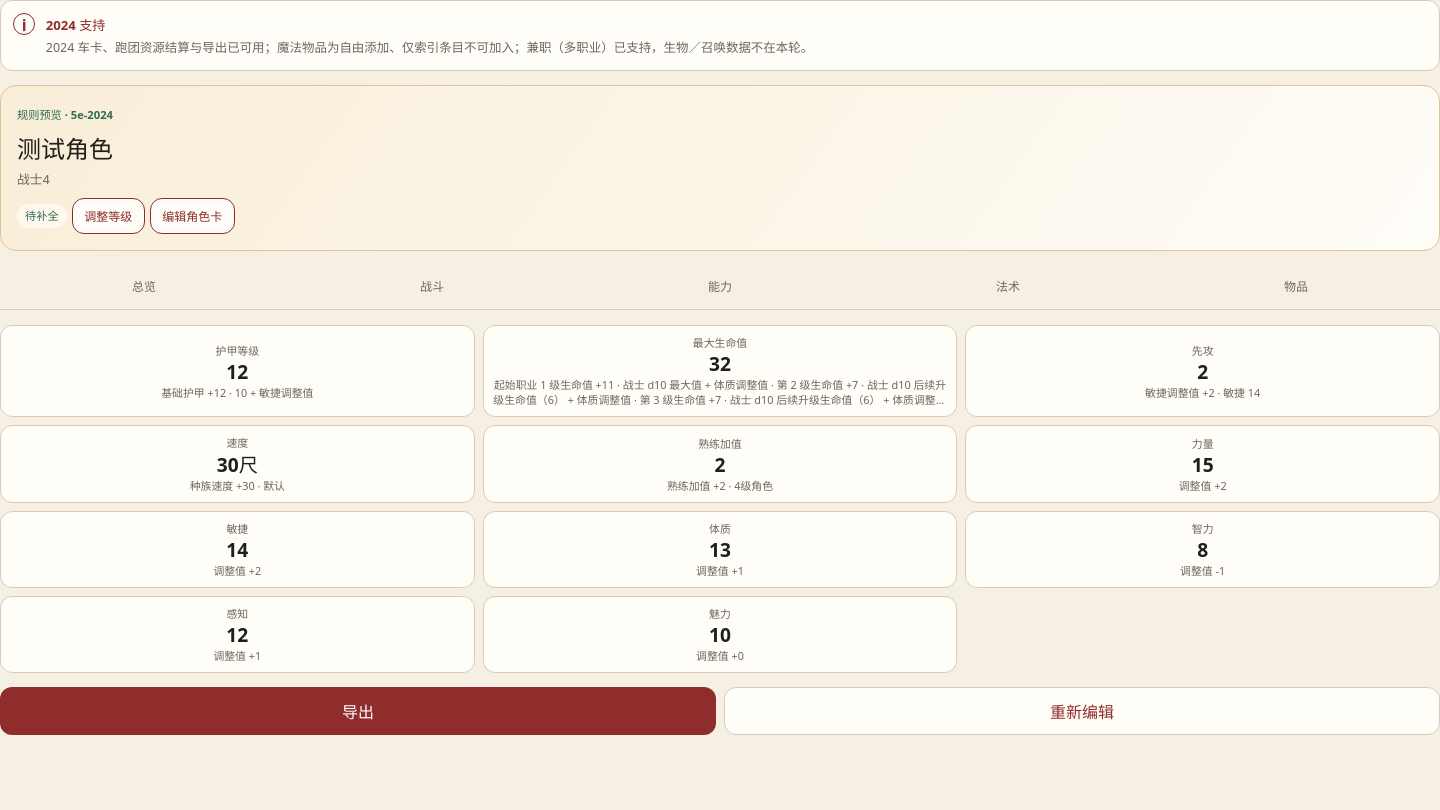
CharacterSheetStep 手动专长 › 仅在编辑模式的能力页提供添加专长入口
The image size is (1440, 810).
Click the tab "能力" at point(720, 287), box [576,265,864,309]
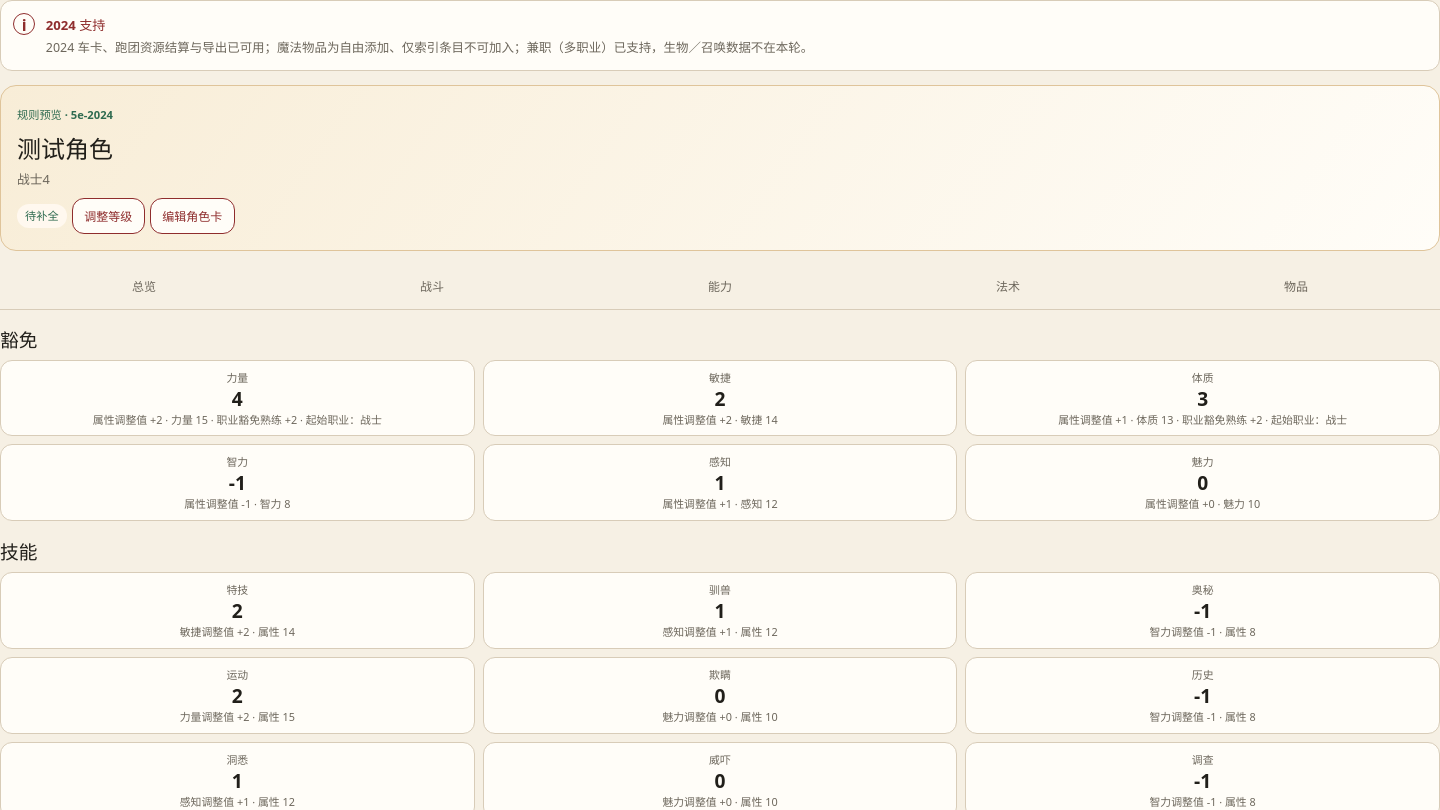
Click the button "编辑角色卡" at point(192, 216), box [150,198,235,234]
(page scrolled)
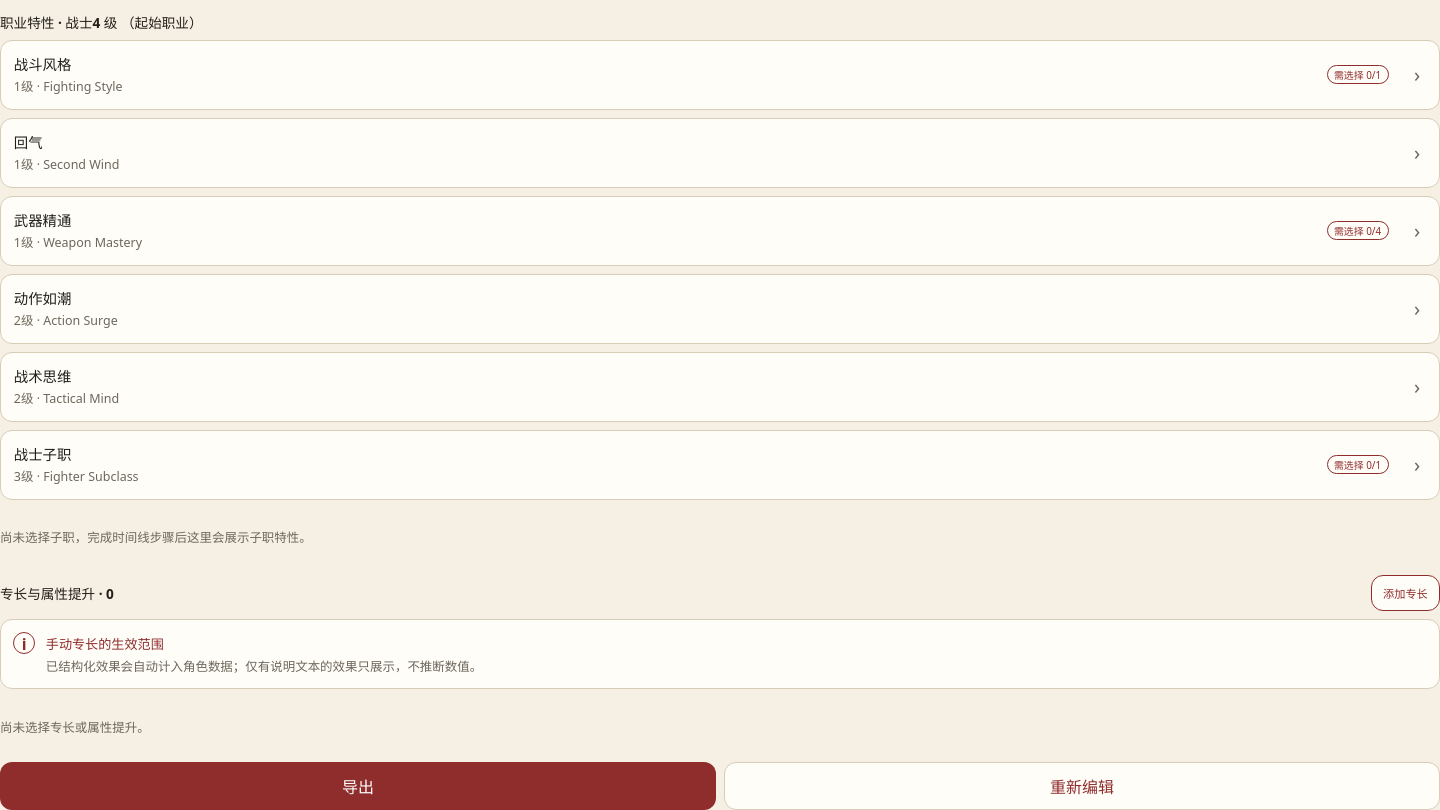
Expected: the button "添加专长" is shown
Click the button "添加专长" at point(1405, 592), box [1371,574,1439,610]
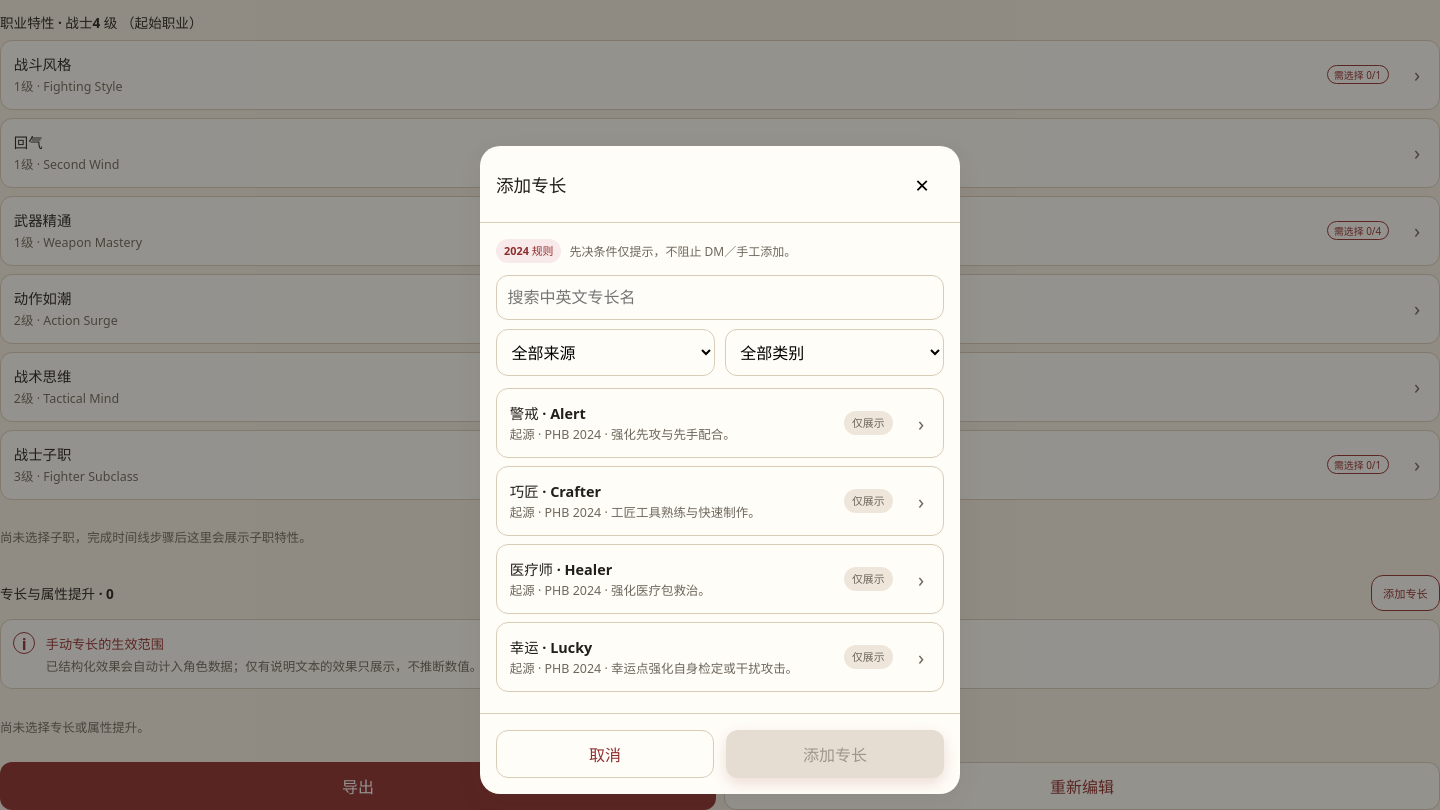
Expected: the text "先决条件仅提示，不阻止 DM／手工添加" is shown, [570,243,796,260]
